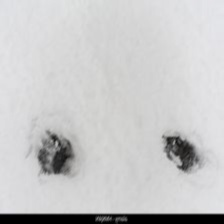raccoon: (35, 132, 78, 182)
